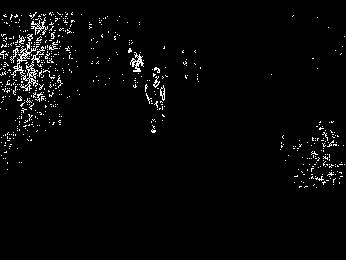person: (143, 66, 167, 133)
